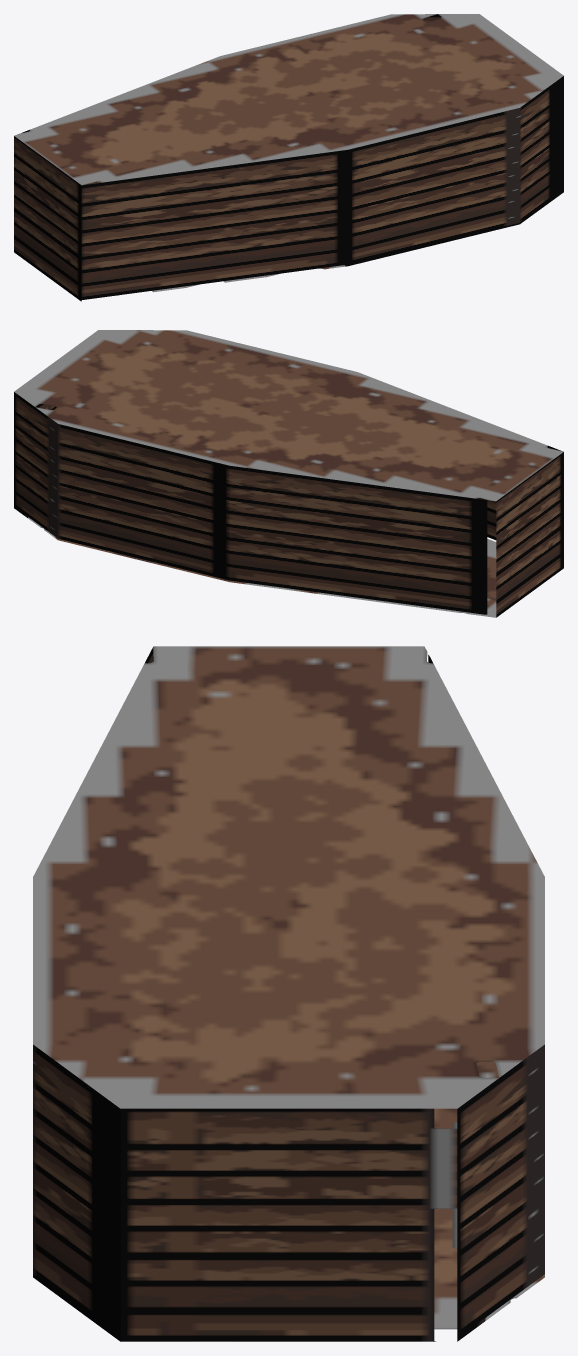
The model's file is JD_coffin.fbx.
3 renders of one model, top to bottom at view 1: azimuth 30°, elevation 25°; view 2: azimuth 150°, elevation 25°; view 3: azimuth 270°, elevation 25°, orthographic. The views are drawn at different scales.
Visible parts, largest first — view 1: coffin; view 2: coffin; view 3: coffin.
Boxes of the visible parts, box(x1,y1,x2,y2) form: coffin: box(14, 14, 563, 301); coffin: box(14, 330, 563, 617); coffin: box(33, 646, 544, 1341).
Bounding box in the file's own units: 216 × 50.64 × 101.
